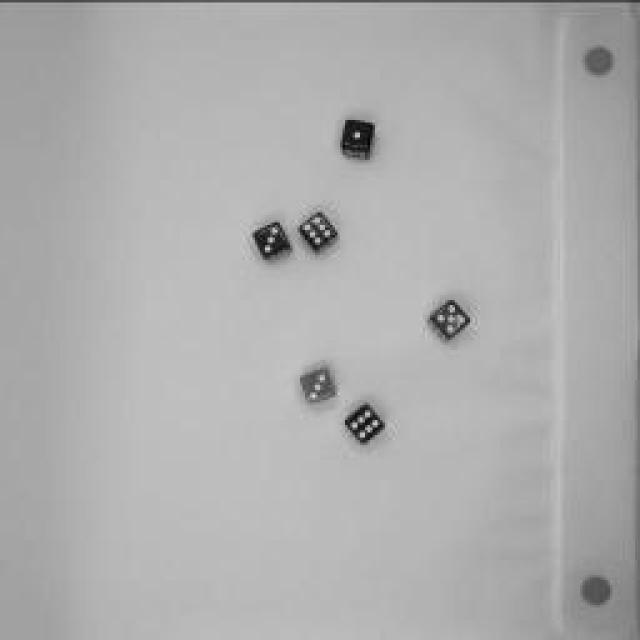dice_1: (332, 112, 382, 168)
dice_3: (248, 216, 298, 269), (290, 360, 342, 410)
dice_5: (422, 290, 478, 350)
dice_6: (293, 205, 345, 257), (338, 399, 390, 446)
